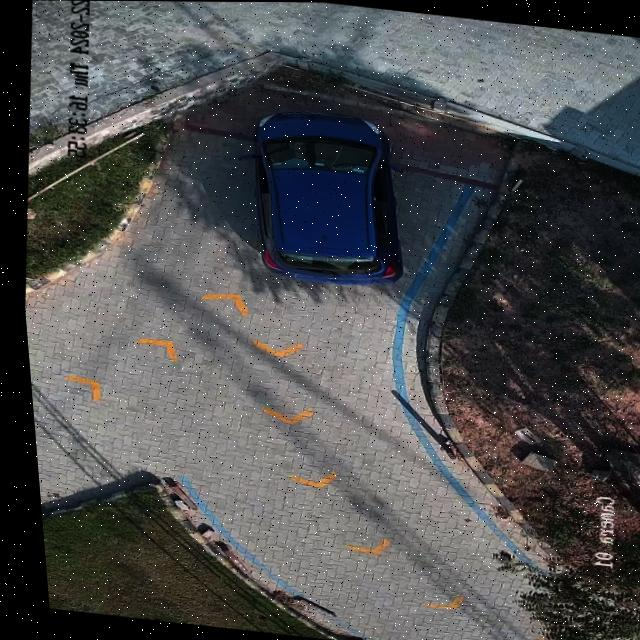car: (251, 110, 399, 284)
